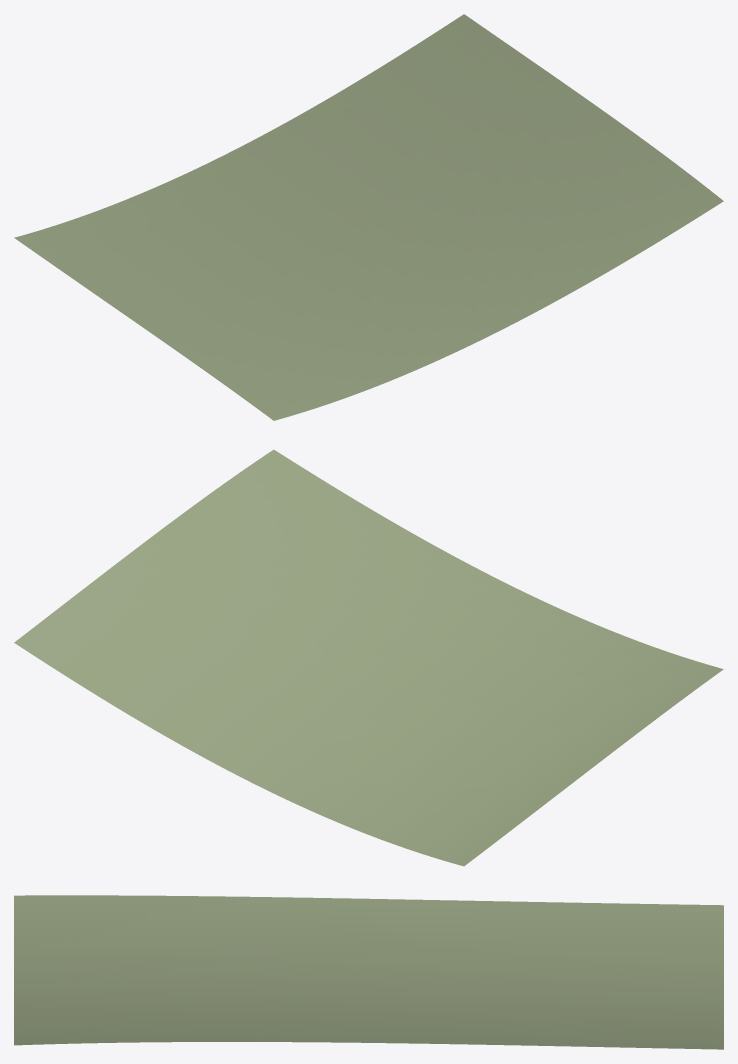
Rendered from expanse-24-13.glb.
3 views of the same model, one above another, from view 1: azimuth 30°, elevation 25°; view 2: azimuth 150°, elevation 25°; view 3: azimuth 270°, elevation 25° (orthographic). The views are drawn at different scales.
Visible parts, largest first — view 1: expanse-24-13; view 2: expanse-24-13; view 3: expanse-24-13.
Boxes of the visible parts, x1,y1,x2,y2 form: expanse-24-13: (14,14,723,420); expanse-24-13: (14,449,723,866); expanse-24-13: (14,895,723,1049).
Size of the model in its own units: 256 by 64.98 by 256.
